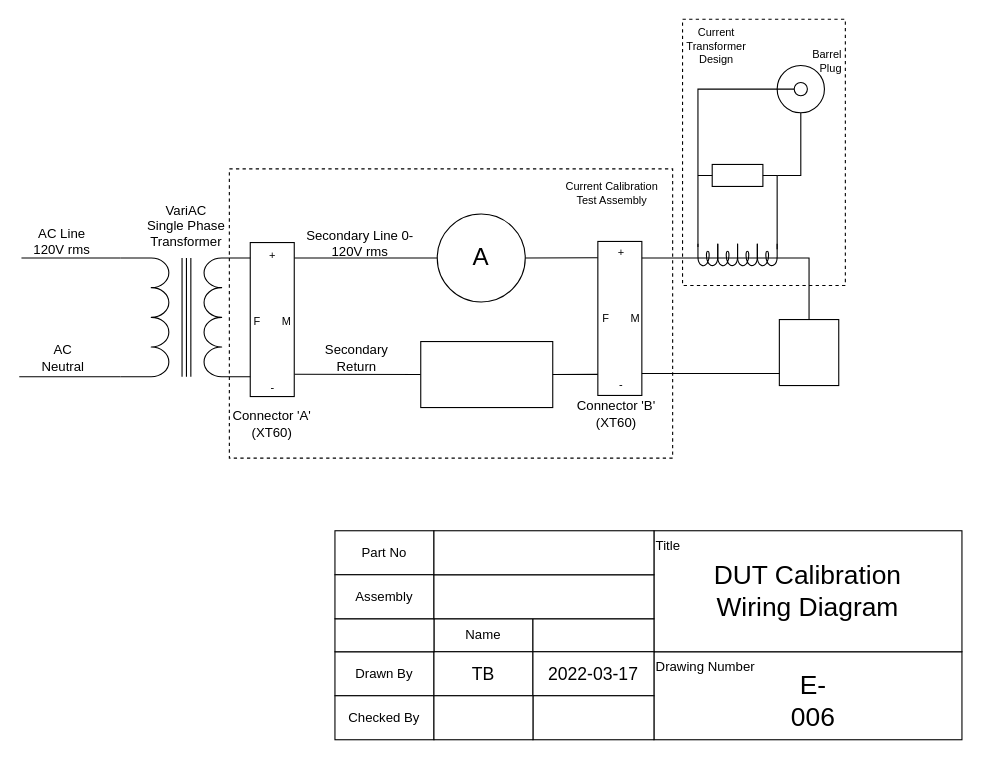
The diagram is 981 pixels wide and 759 high, and some of its shapes have lost their labels. Here are the shapes that lost their labels. From the top down, the centre of each, then its label:
At pixel 737 174: "1kΩ".
At pixel 808 352: "Circuit Breaker".
At pixel 486 374: "2Ω 200W Resistive Load".
At pixel 593 635: "Date".
